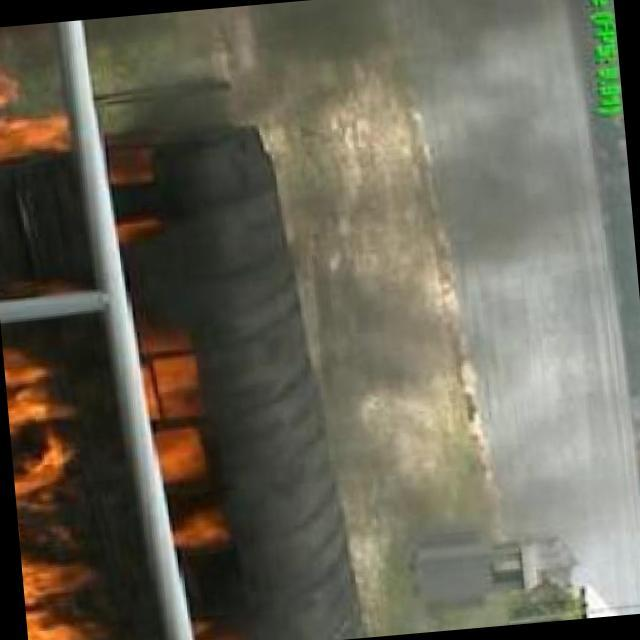Fire: (2, 344, 120, 640), (129, 318, 206, 526), (1, 28, 70, 173), (182, 497, 249, 640), (107, 141, 166, 253)
